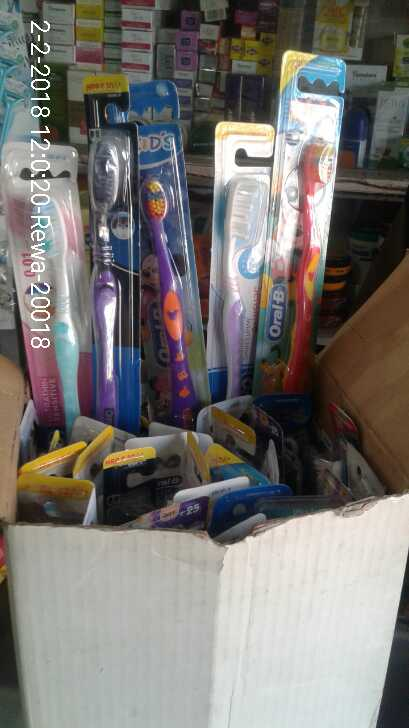oralb: (136, 166, 202, 421), (23, 185, 86, 434), (76, 134, 127, 418), (285, 124, 329, 412), (224, 155, 262, 405)
